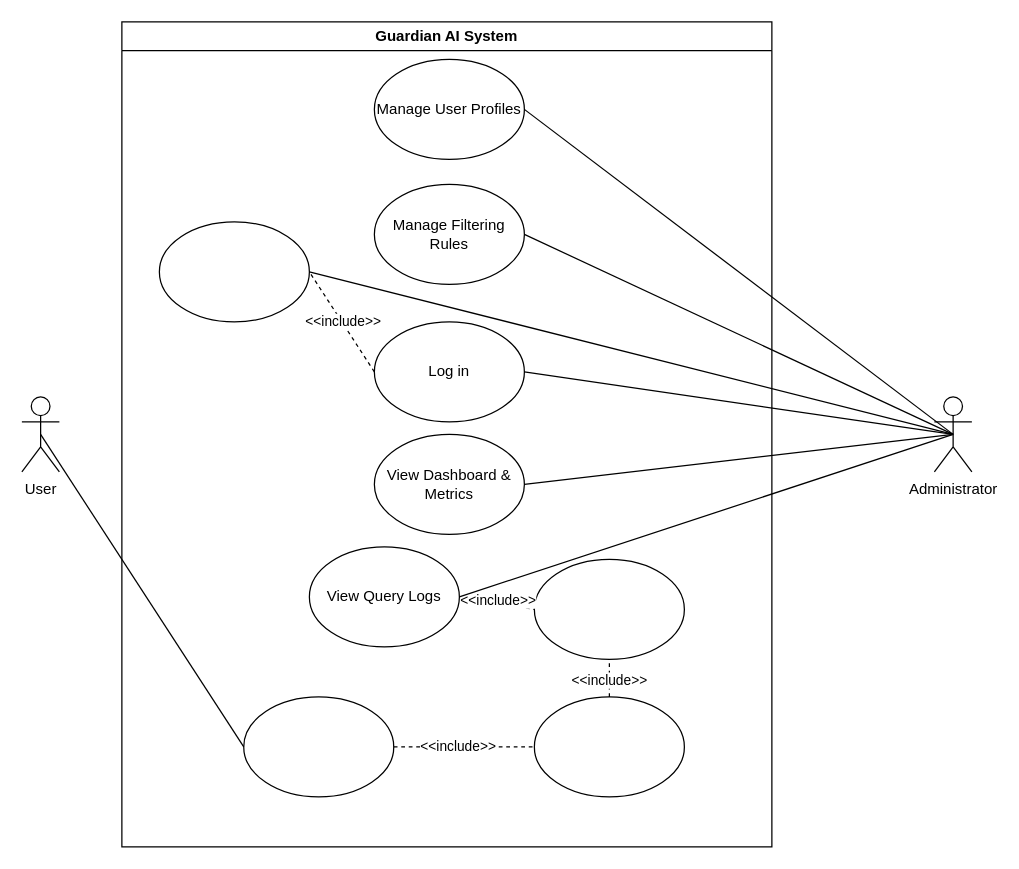
The diagram is 1019 pixels wide and 869 high, and some of its shapes have lost their labels. The shapes that lost their labels are listed below. From the top down, each one's centre as x and y in pixels, then its label:
At point (233, 271): "Register".
At point (608, 608): "Log Query".
At point (318, 746): "Request Domains".
At point (608, 746): "Filtering Service".
